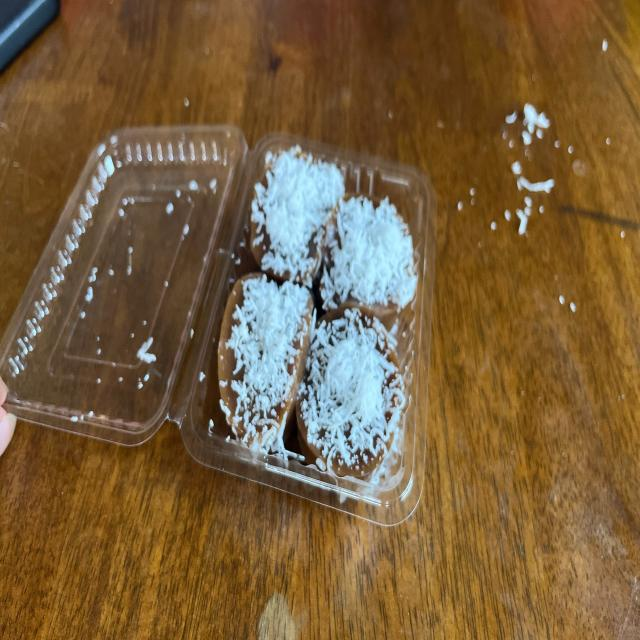Kuih lompang: (296, 307, 405, 478), (219, 273, 314, 458), (251, 144, 345, 287), (320, 196, 416, 329)
